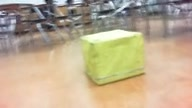cube: (80, 30, 143, 85)
